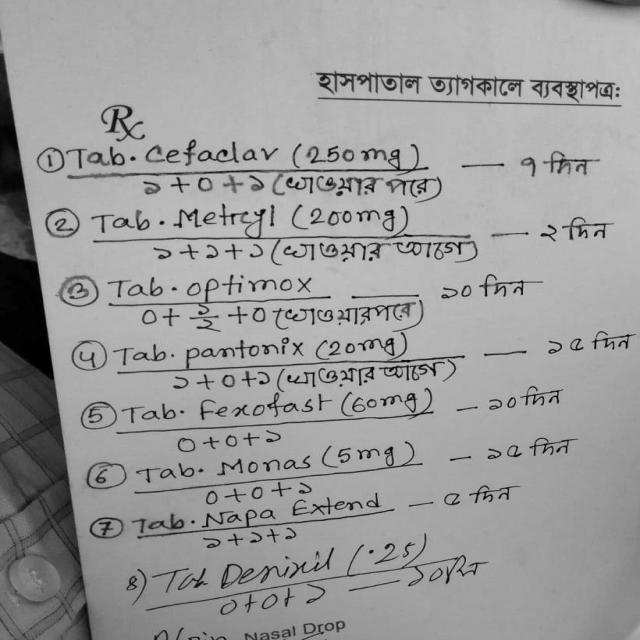medicine: (192, 494, 386, 526), (145, 128, 284, 172), (208, 548, 344, 586), (188, 392, 330, 423), (176, 198, 288, 236), (186, 271, 318, 300), (177, 338, 310, 365), (208, 454, 318, 479)
